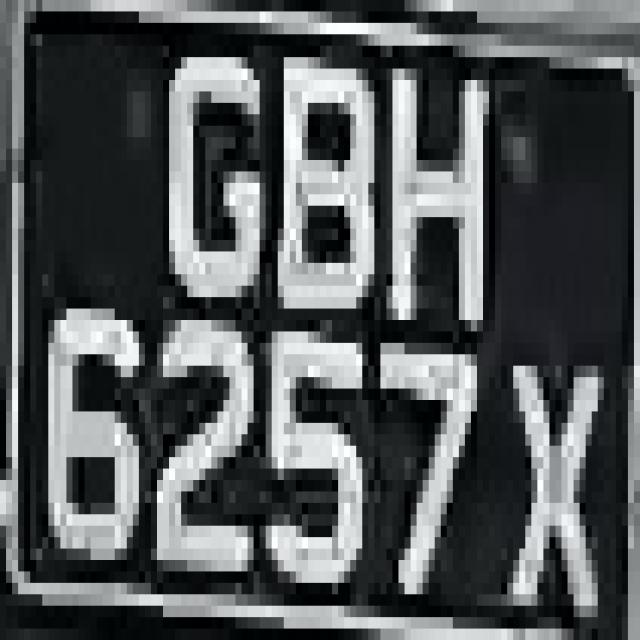2: (139, 297, 266, 594)
5: (254, 320, 386, 629)
6: (42, 274, 151, 572)
7: (362, 320, 489, 640)
B: (266, 0, 392, 366)
G: (151, 46, 278, 320)
H: (368, 34, 495, 366)
X: (495, 320, 610, 640)
